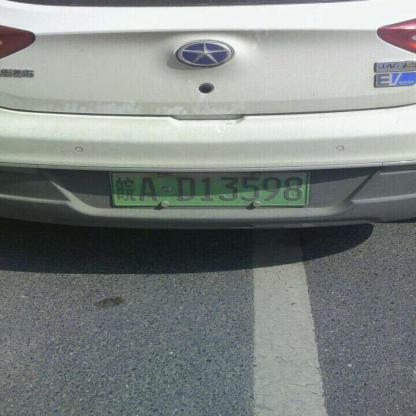lp: (110, 172, 308, 206)
